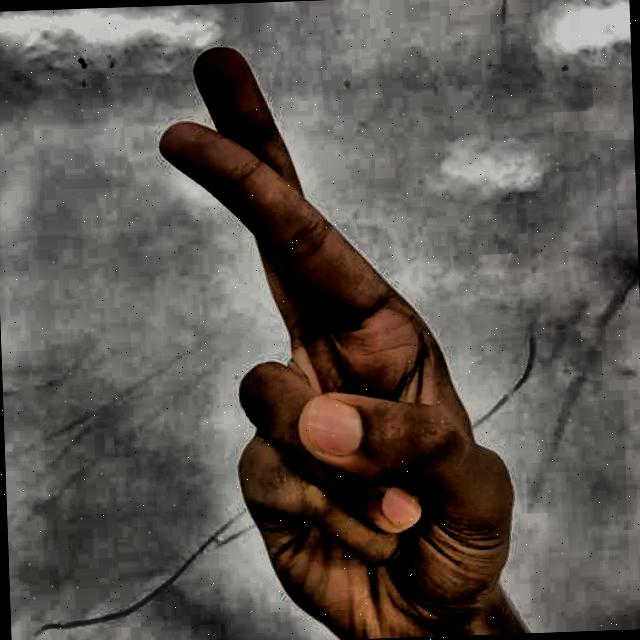Ra: (107, 14, 549, 640)
